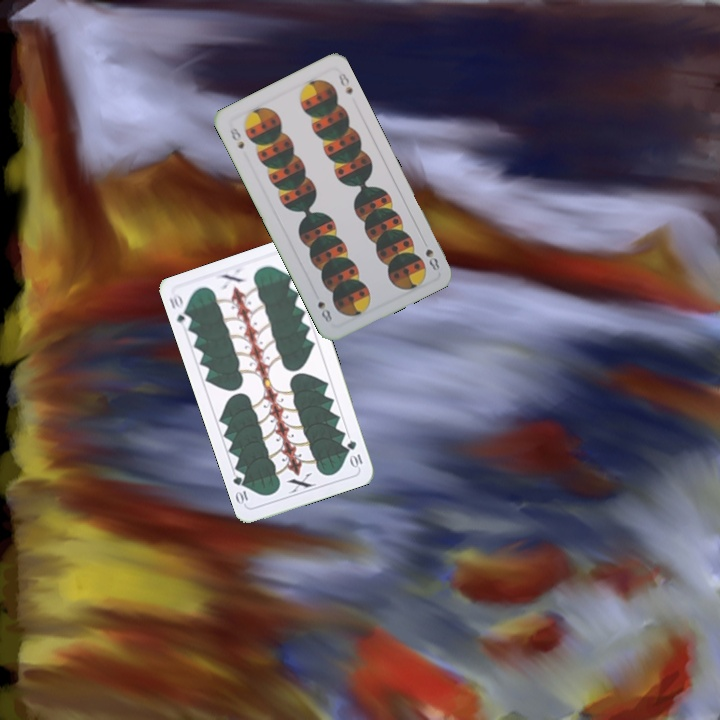G10: (165, 290, 194, 331), (343, 436, 365, 471)
S8: (226, 124, 247, 152), (421, 245, 442, 273)
